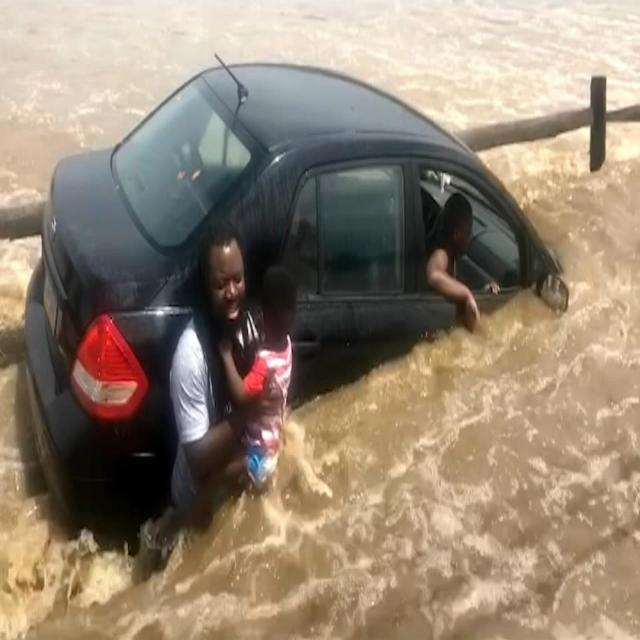water: (144, 122, 637, 585), (0, 0, 639, 207), (1, 360, 168, 586), (1, 236, 42, 328)
